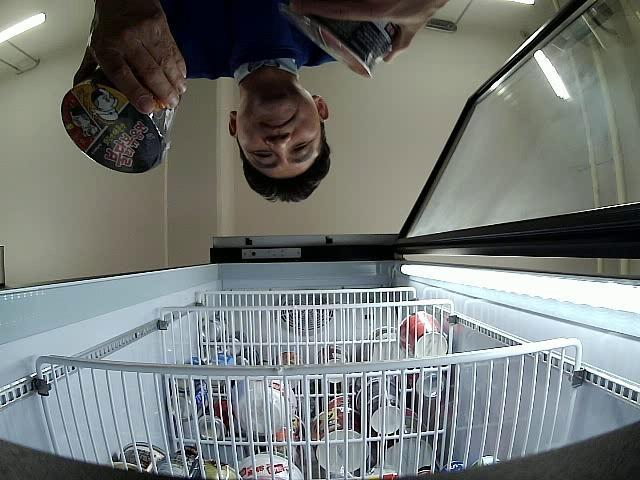07_buldak_L: (60, 67, 174, 174), (280, 0, 400, 78)
